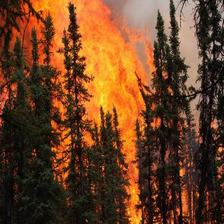fire: (2, 4, 202, 219)
